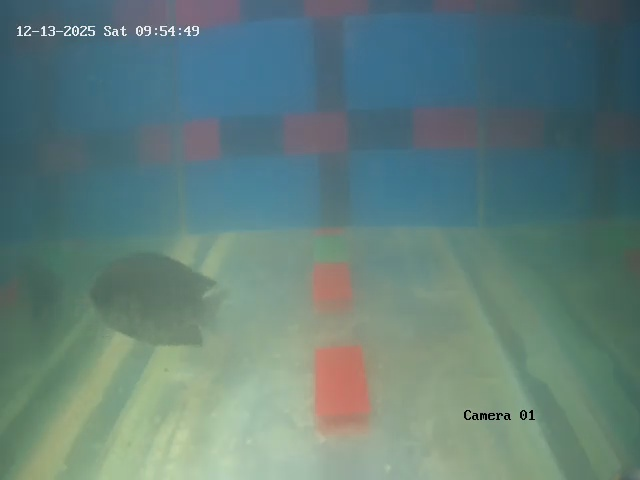fish: (82, 248, 228, 348)
